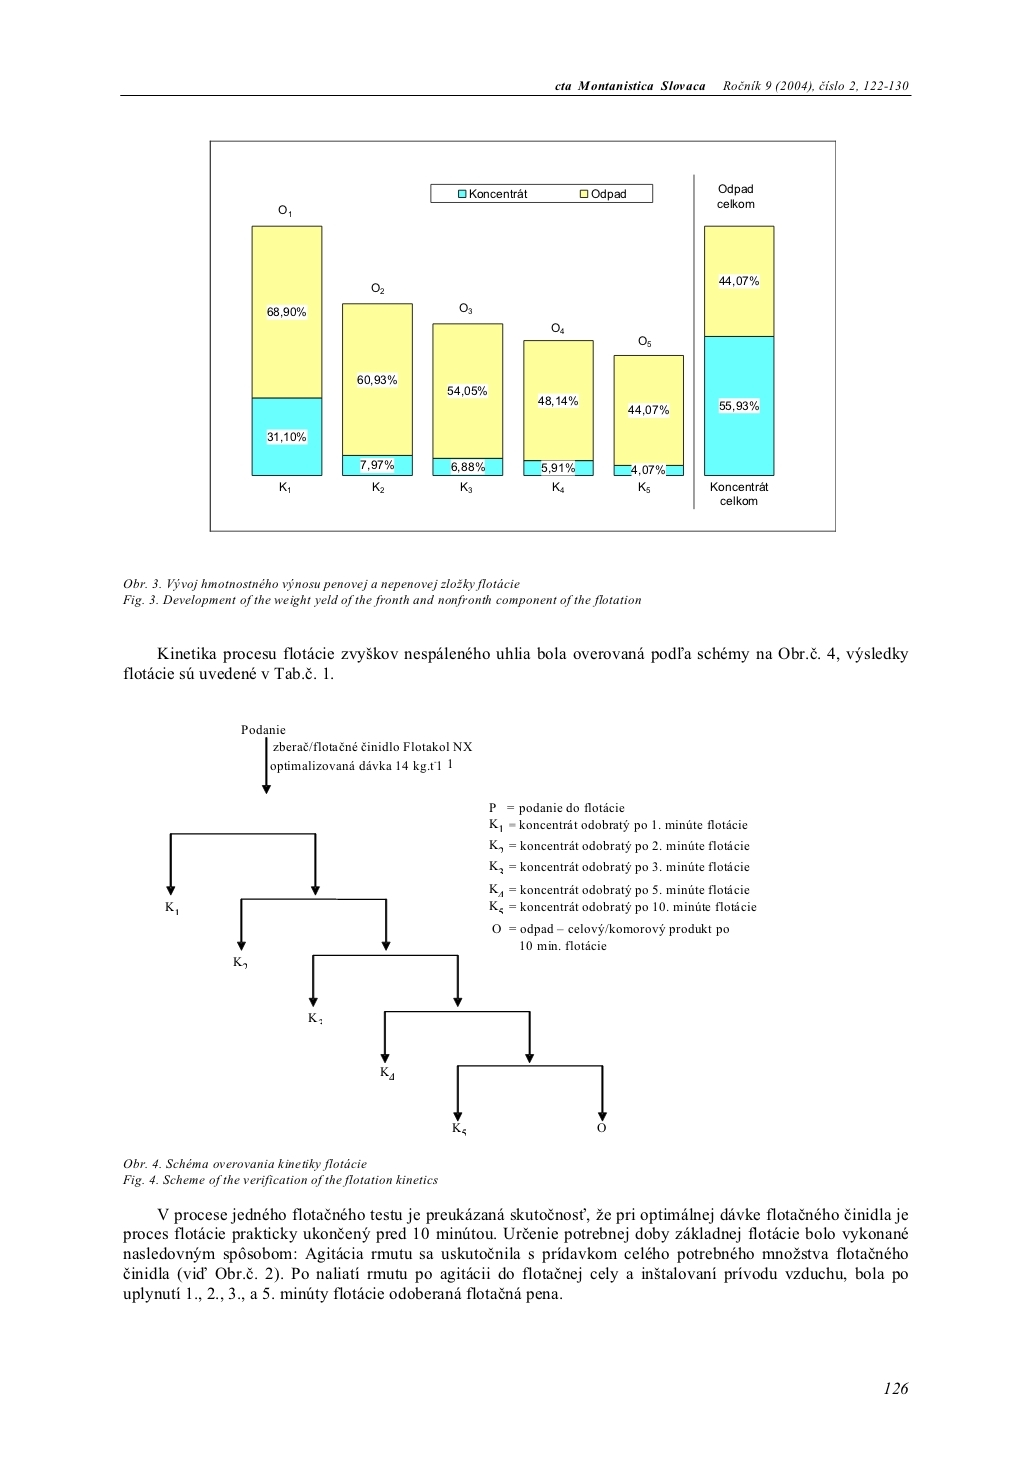figure: (209, 139, 835, 532), (165, 725, 757, 1136)
